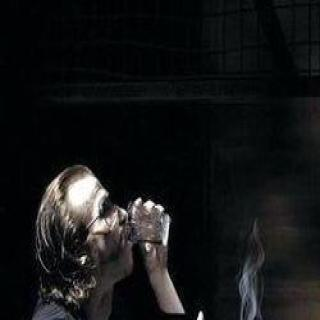smoke: (235, 235, 271, 320)
